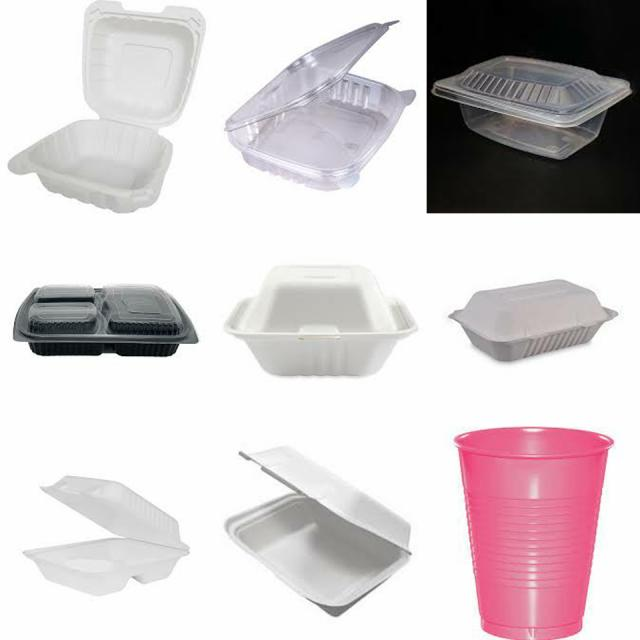Single-Use-Plastic: (8, 1, 205, 212), (455, 428, 612, 640), (225, 22, 415, 190), (225, 446, 410, 616), (225, 265, 416, 376), (431, 56, 631, 159), (25, 476, 189, 595), (450, 280, 618, 361), (14, 285, 198, 356)
